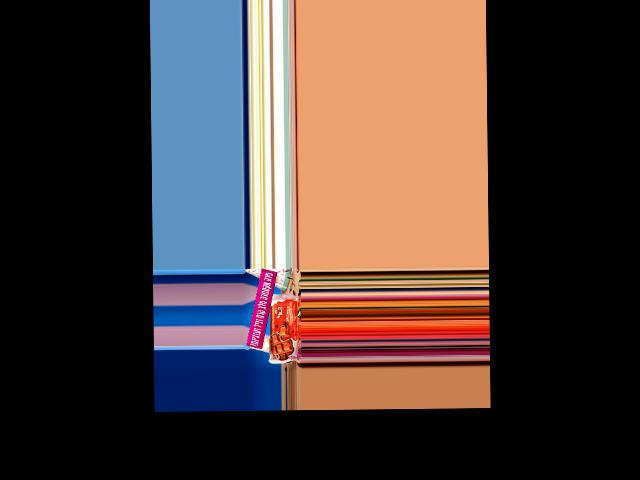chocolate: (266, 292, 299, 365)
